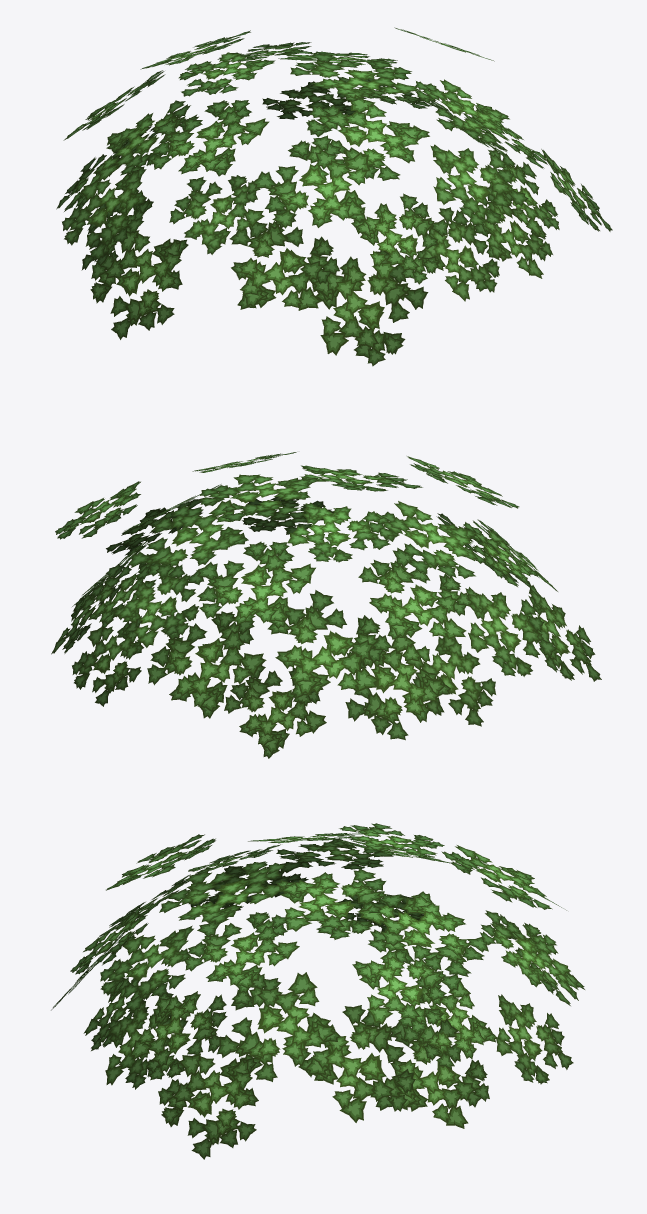
Rendered from clover_b.glb.
3 renders of one model, top to bottom at view 1: azimuth 30°, elevation 25°; view 2: azimuth 150°, elevation 25°; view 3: azimuth 270°, elevation 25°, orthographic. The views are drawn at different scales.
Parts seen in each view (by area): view 1: clover_b; view 2: clover_b; view 3: clover_b.
Part boxes in pixels (left/top/right/bottom): clover_b: left=56, top=27, right=612, bottom=366; clover_b: left=51, top=452, right=601, bottom=758; clover_b: left=51, top=823, right=584, bottom=1159.
Bounding box in the file's own units: 2.55 × 1.03 × 2.51.
1 material, 1 textured.
